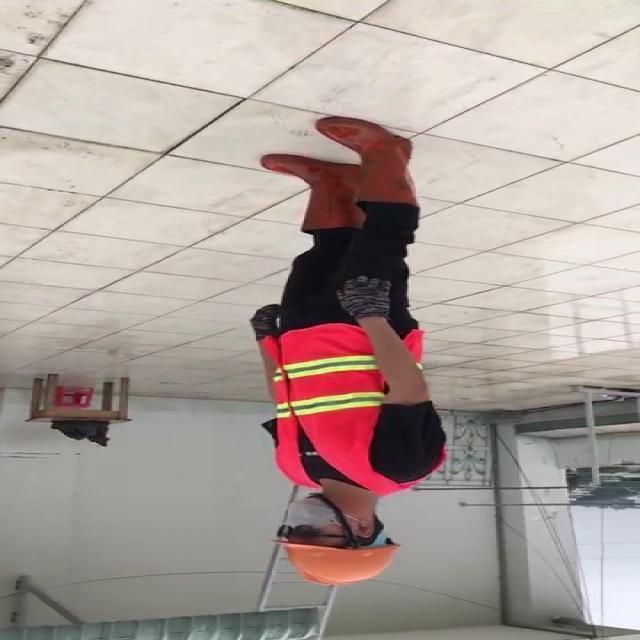Boots: (311, 115, 427, 203), (258, 153, 362, 232)
Gloves: (341, 270, 396, 332)
Helmet: (270, 540, 408, 587)
Vest: (260, 321, 448, 492)
